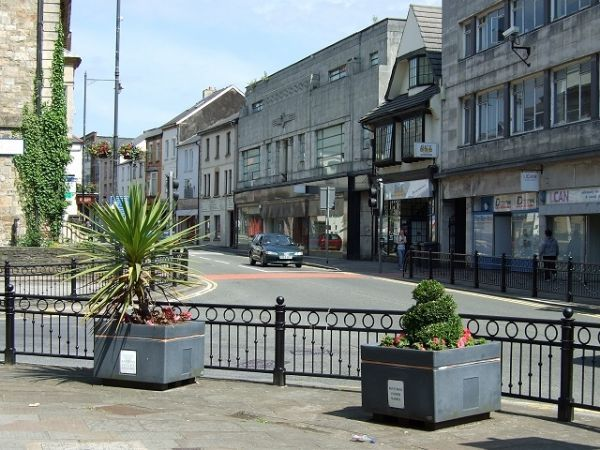Fence: (10, 289, 600, 431)
